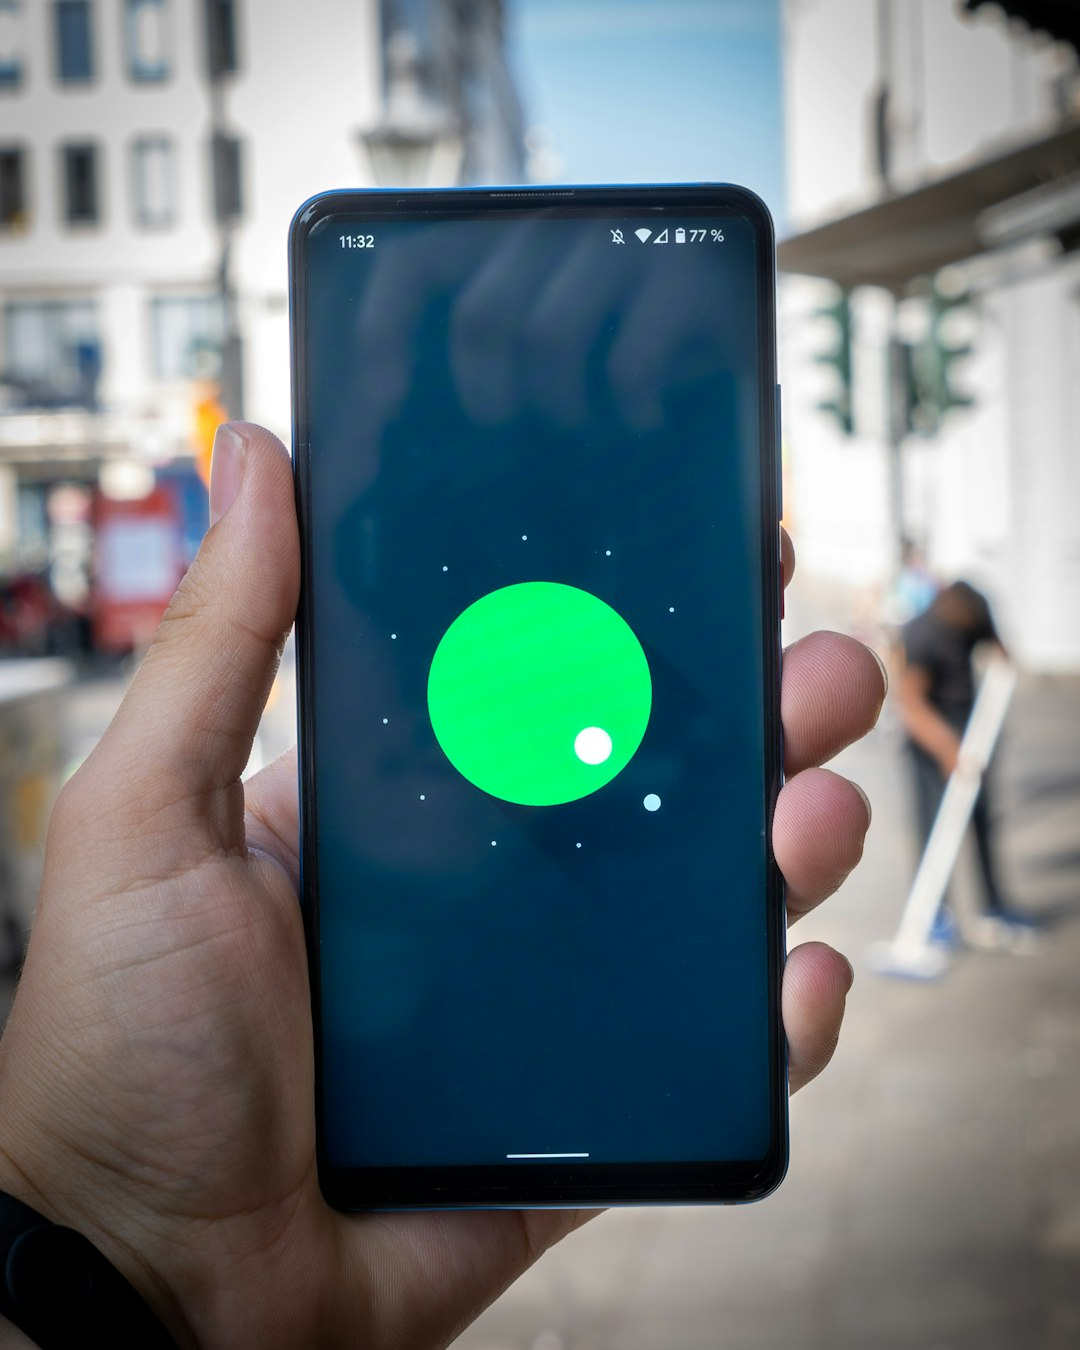phone: (279, 185, 804, 1217)
